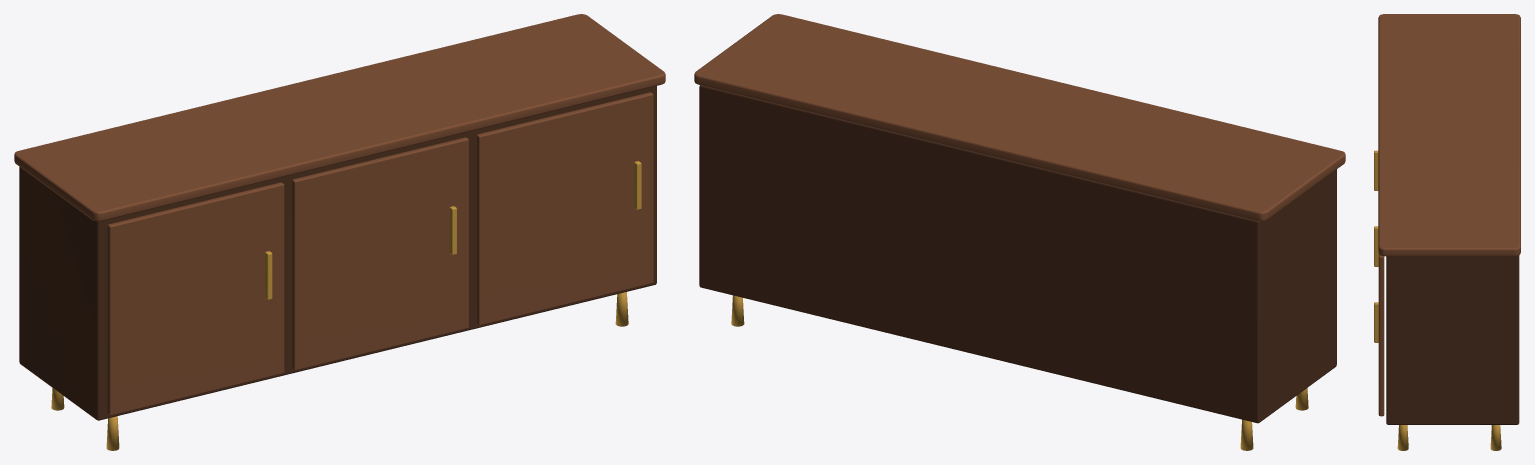
The model's file is RmSideboard.fbx.
3 views of the same model, side by side, from view 1: azimuth 30°, elevation 25°; view 2: azimuth 150°, elevation 25°; view 3: azimuth 270°, elevation 25° (orthographic). The views are drawn at different scales.
Visible parts, largest first — view 1: RmSideboardBody, Door__swap, Door__swap.001, Door; view 2: RmSideboardBody; view 3: RmSideboardBody, Door__swap.001.
Part boxes in pixels (bbox=[...]): RmSideboardBody: bbox=[14, 14, 665, 450]; Door__swap: bbox=[107, 182, 284, 415]; Door__swap.001: bbox=[476, 92, 653, 325]; Door: bbox=[292, 137, 468, 370]; RmSideboardBody: bbox=[694, 14, 1345, 450]; RmSideboardBody: bbox=[1374, 14, 1520, 450]; Door__swap.001: bbox=[1378, 254, 1384, 416].
Bounding box in the file's own units: 1.8 × 0.76 × 0.474.
